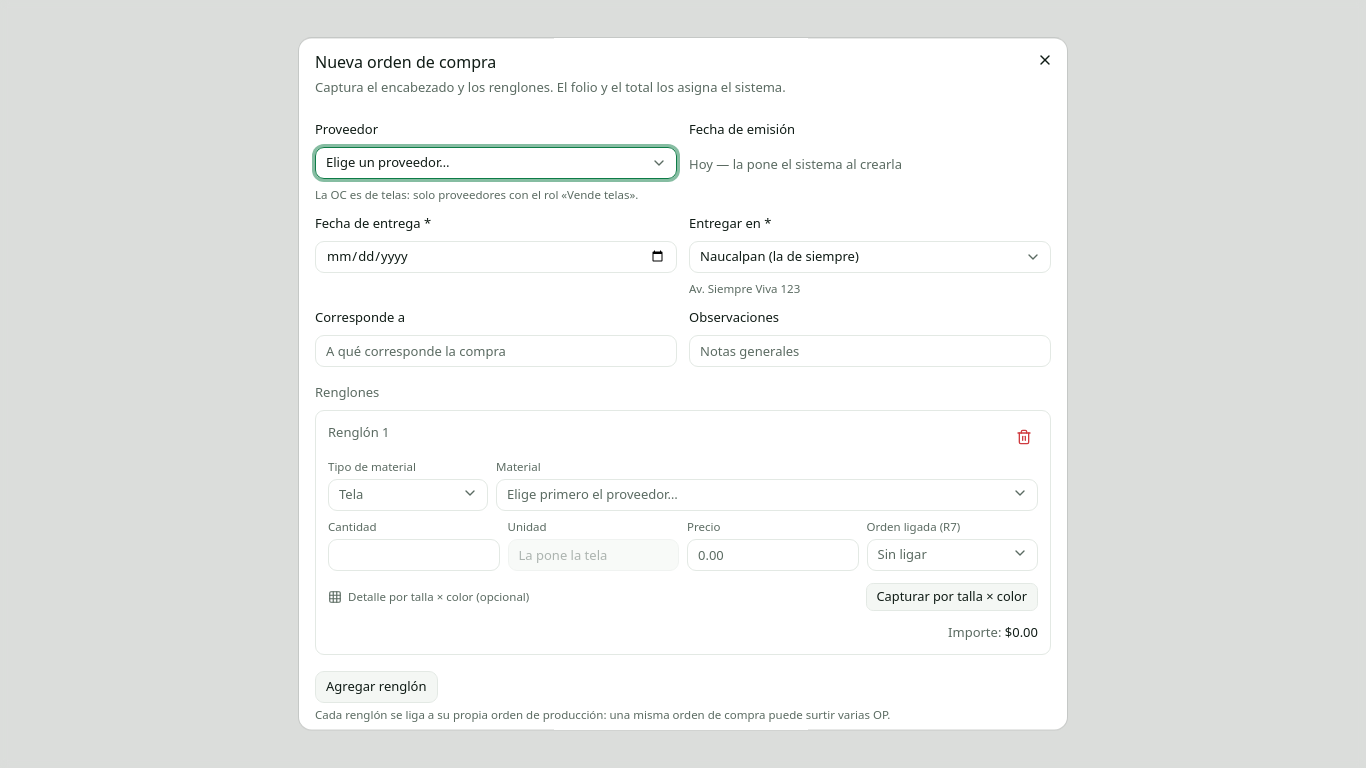
DialogoEditarOc · reglas de captura de Daniel (§Post-F9.18) › la unidad de un renglón de tela la manda la tela y no se teclea
Select "Telas del Norte" in the dropdown with test id "oc-proveedor" at (496, 163), box [315,147,677,179]
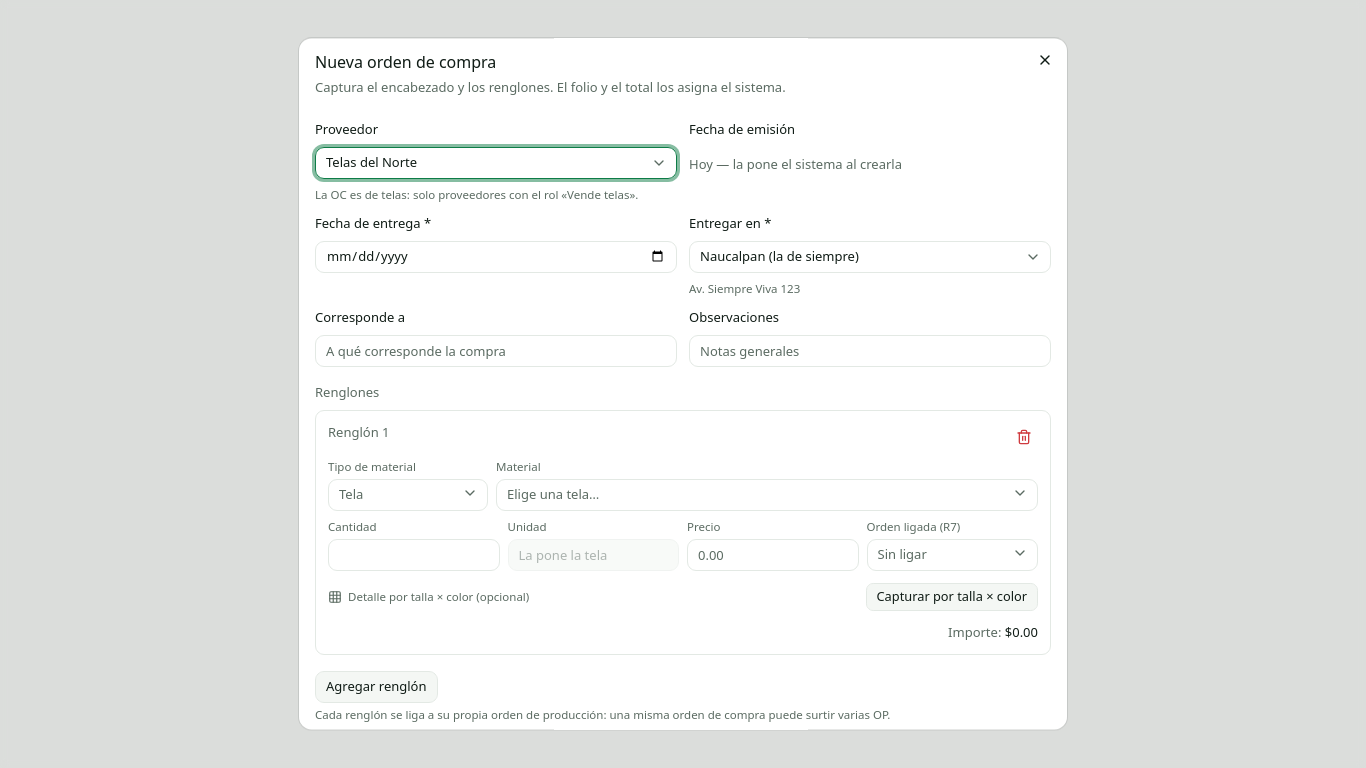
Select "Felpa Alsatex" in the dropdown with test id "selector-tela-oc" at (767, 495), box [496,479,1038,511]
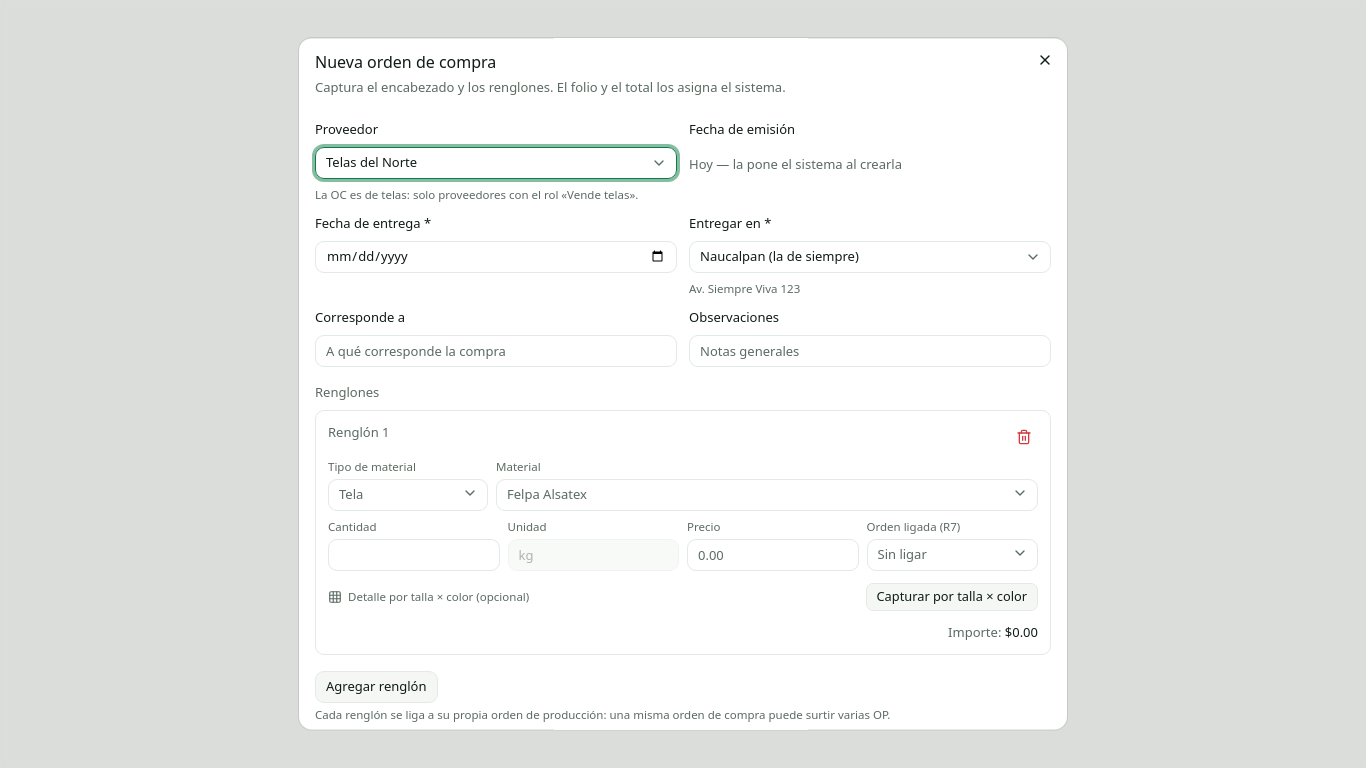
Expected: the field with test id "unidad-oc" is disabled, [508,539,679,571]
Expected: the field with test id "unidad-oc" holds "kg", [508,539,679,571]
